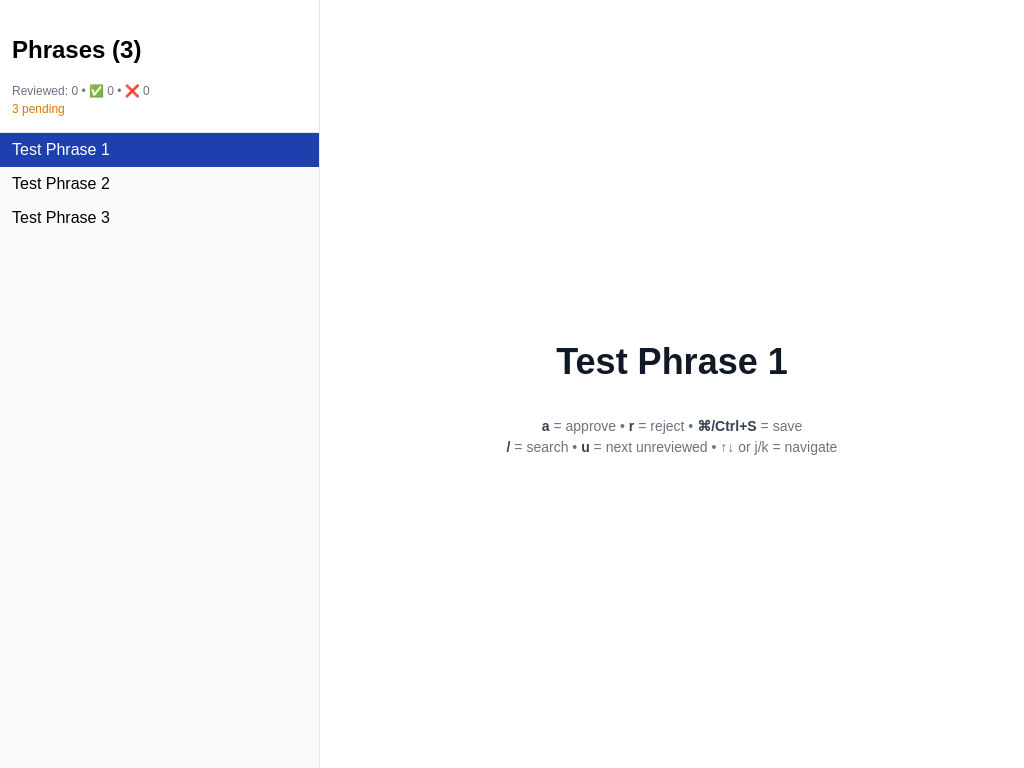
Test: App › searches and jumps to matching phrase
Press /
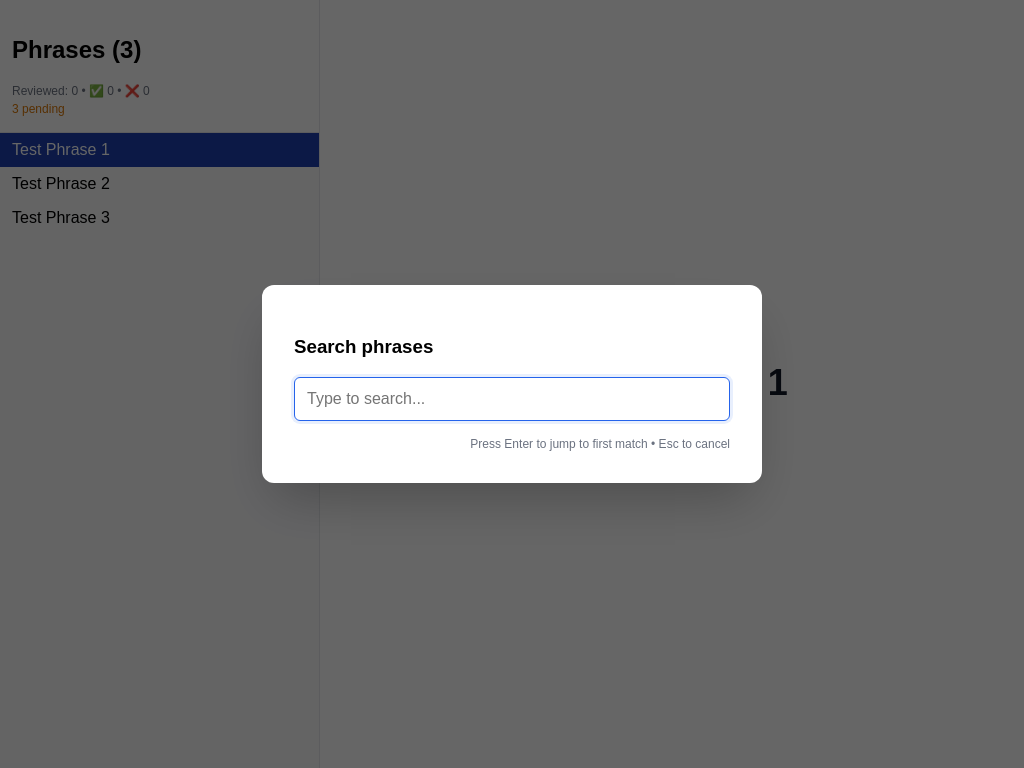
Type "Phrase 2" into the field with placeholder "Type to search..." at (512,399), box x1=294 y1=377 x2=730 y2=421
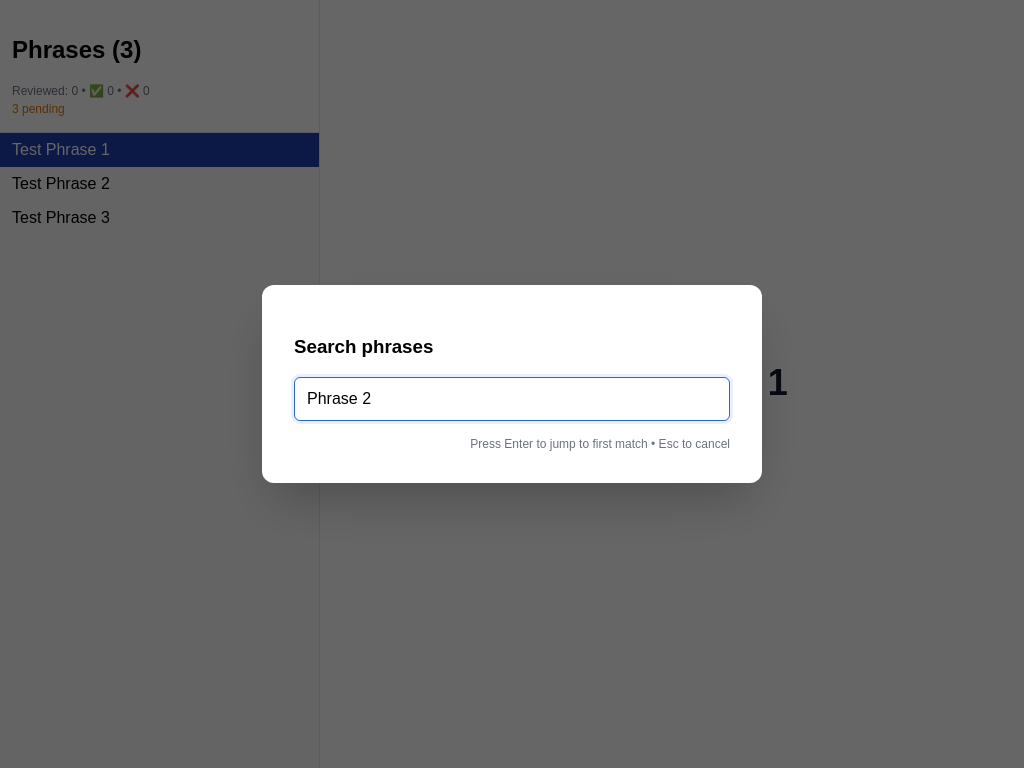
Press Enter
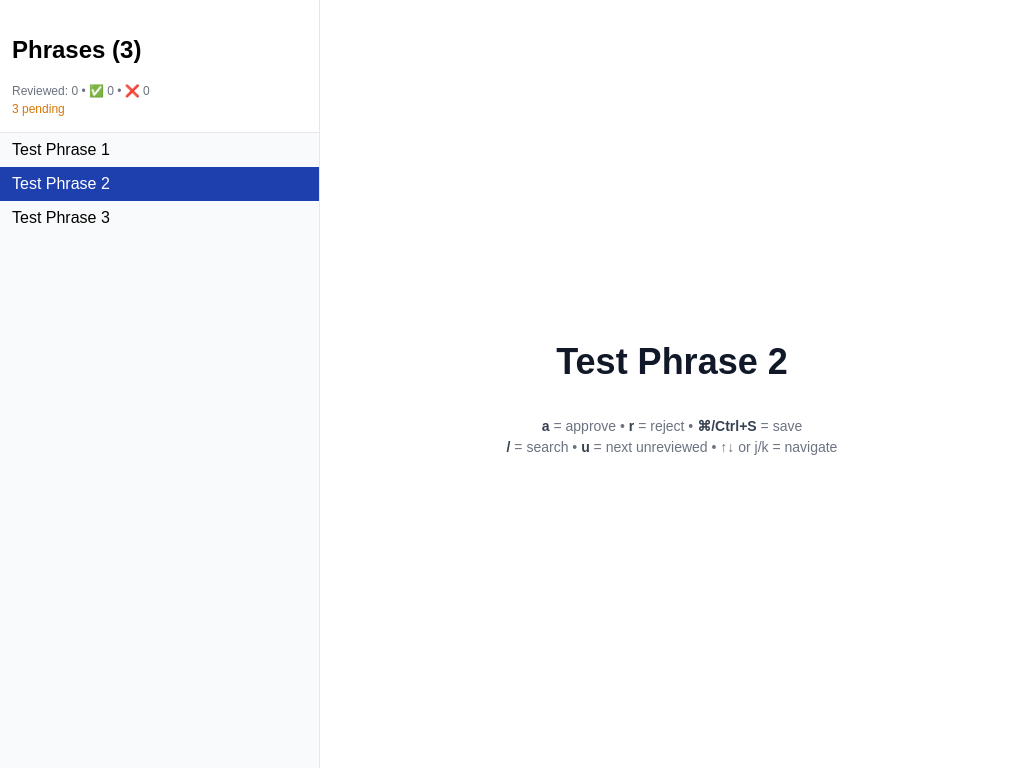
Now the heading "Test Phrase 2" is shown, box x1=556 y1=340 x2=788 y2=384
